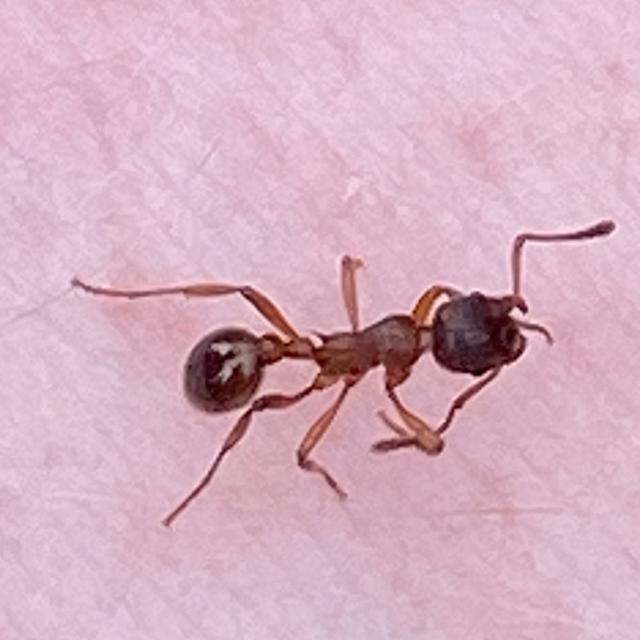Myrmica: (138, 201, 586, 503)
